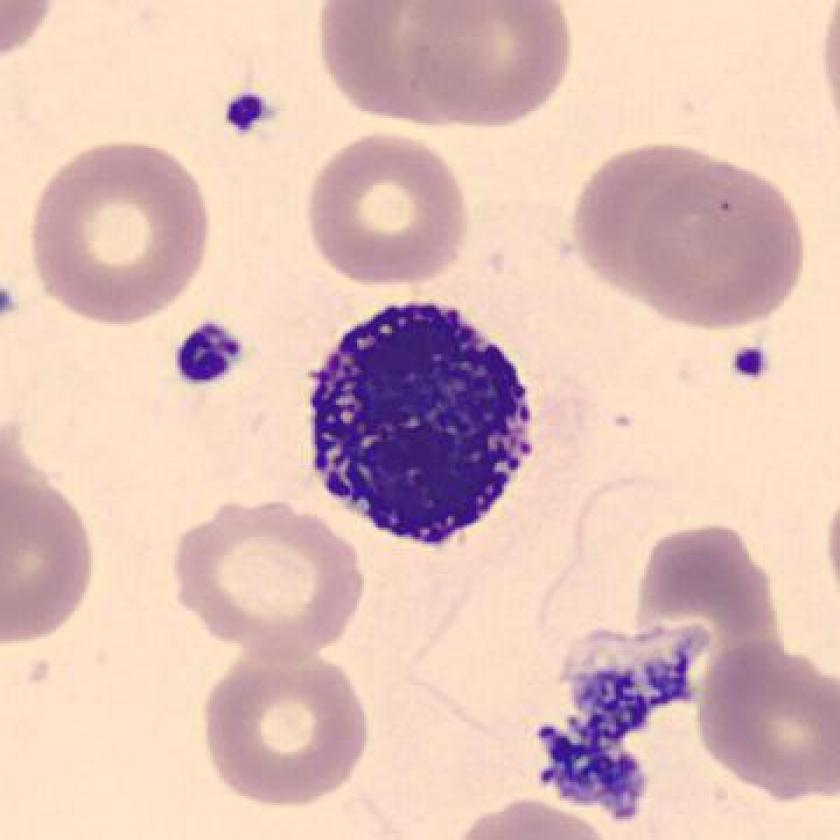basophil: (302, 302, 542, 552)
